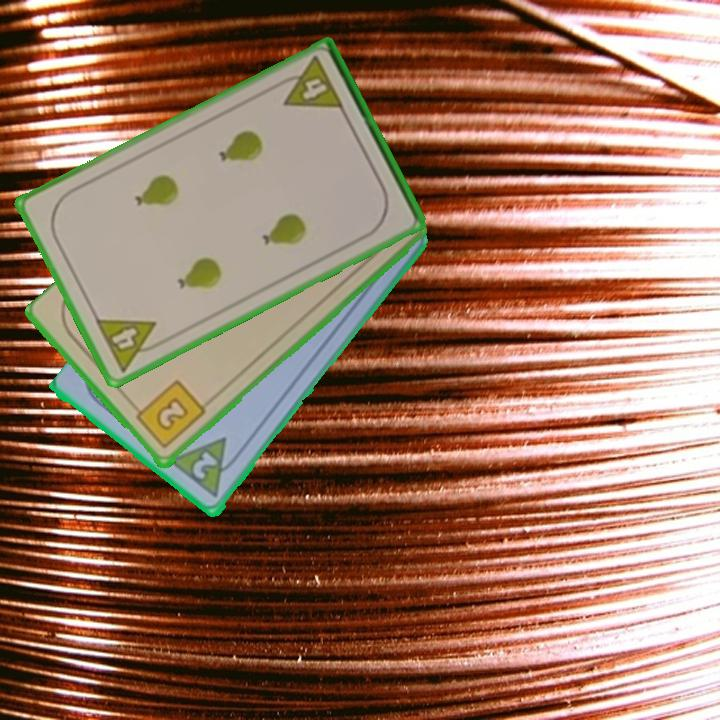2b: (128, 377, 209, 452)
2p: (167, 434, 246, 502)
4p: (91, 315, 168, 375), (272, 53, 347, 113)
